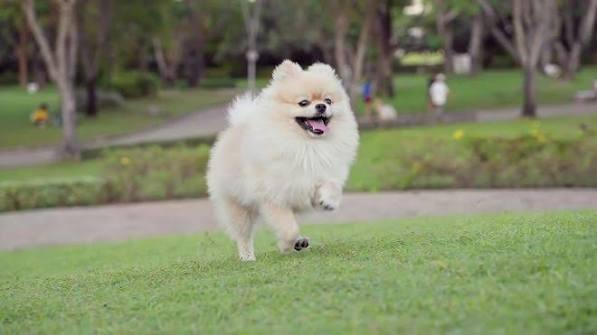adult_dog: (207, 62, 358, 260)
